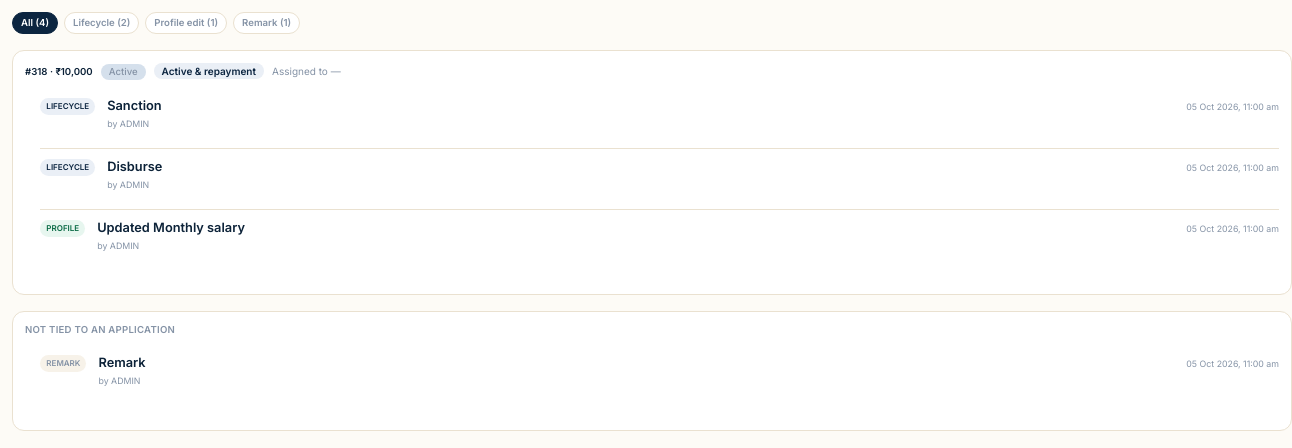
Test: Audit Logs filter chips › offers All plus one chip per type present, and filters client-side
The width and height of the screenshot is (1292, 448).
Expected: the text "Sanction" is shown, [107, 96, 162, 117]
Click the button "Lifecycle (2)": (102, 23) [64, 12, 139, 34]
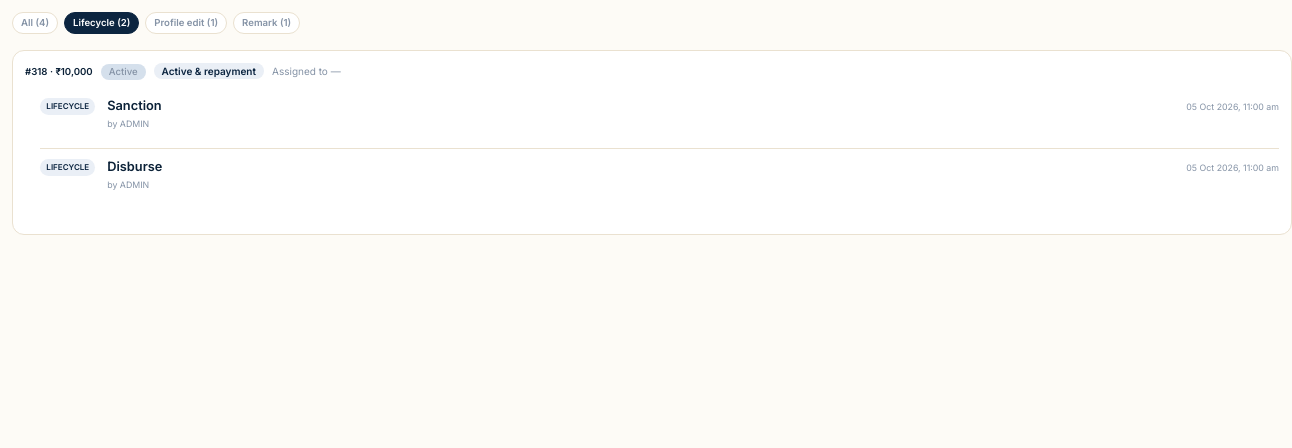
Expected: the text "Sanction" is shown, [107, 96, 162, 117]
Expected: the text "Updated Monthly salary" is gone
Expected: the text "Not tied to an application" is gone
Click the button "Remark (1)": (267, 23) [233, 12, 300, 34]
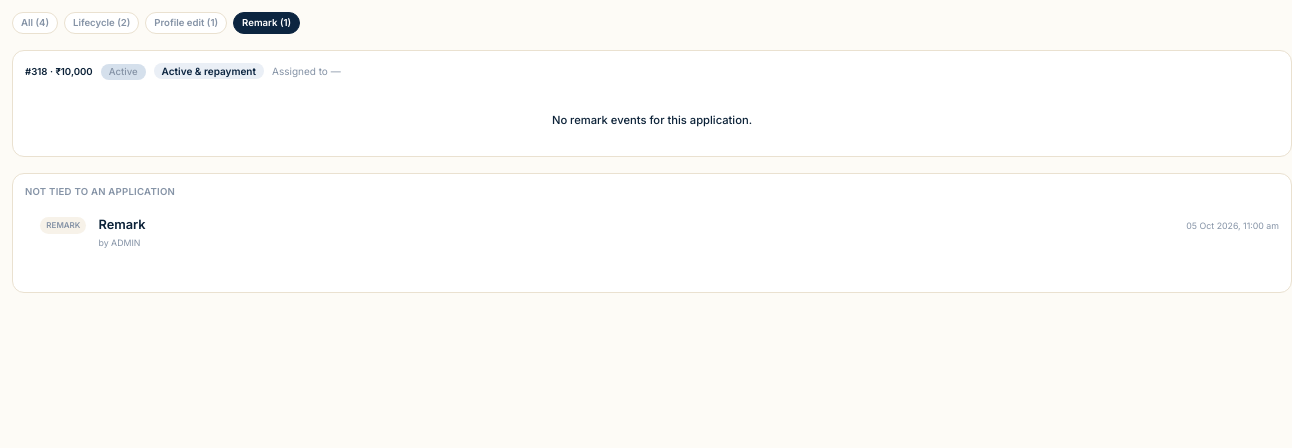
Expected: the text "Sanction" is gone
Expected: the text "No remark events for this application." is shown, [552, 113, 752, 127]
Expected: the text "Not tied to an application" is shown, [25, 186, 175, 199]
Click the button "All (4)": (35, 23) [12, 12, 58, 34]
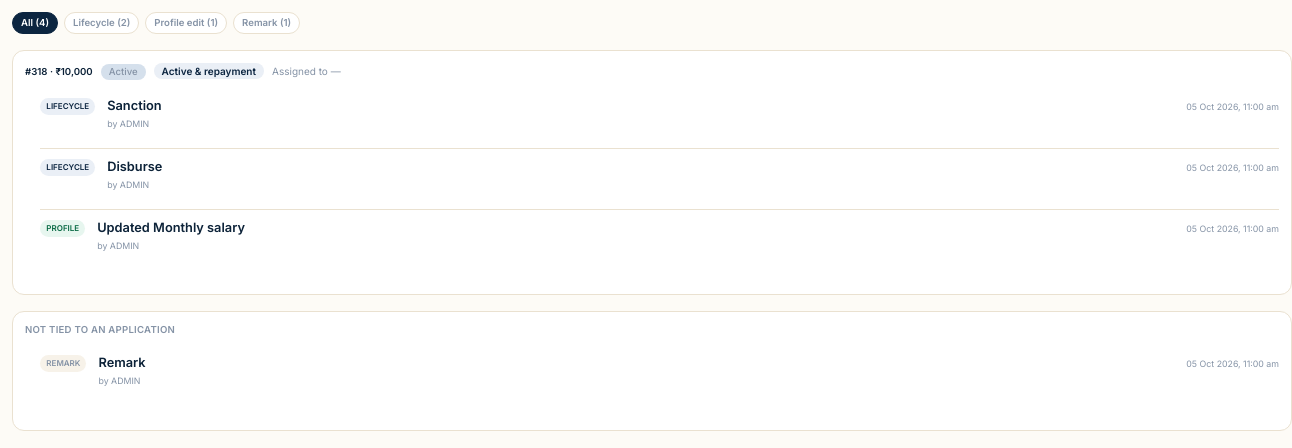
Expected: the text "Updated Monthly salary" is shown, [97, 218, 245, 239]
